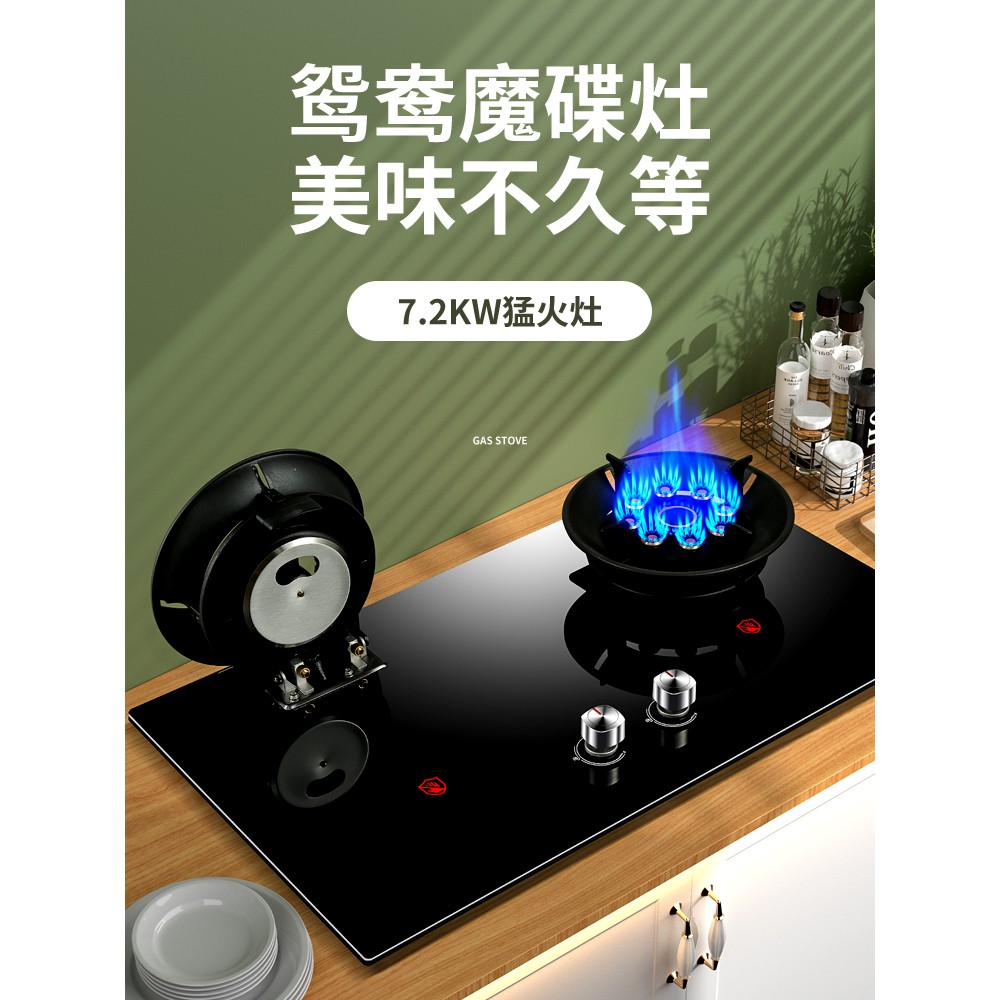gasoven: (134, 368, 876, 970)
